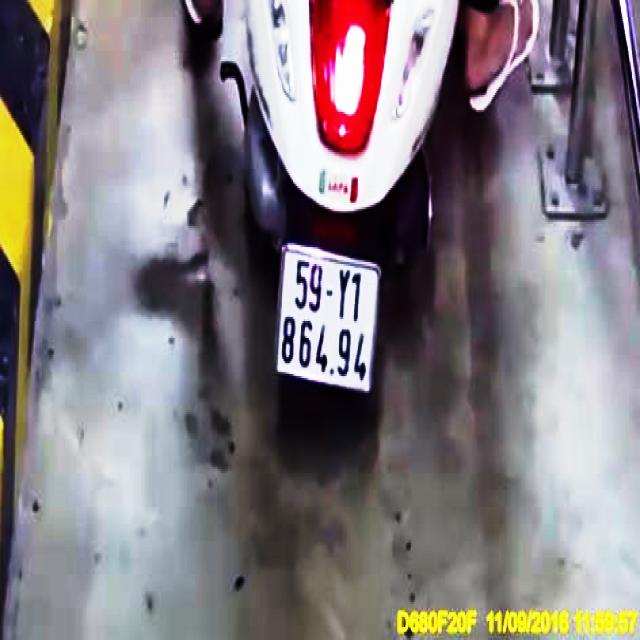license_plate: (277, 246, 382, 391)
